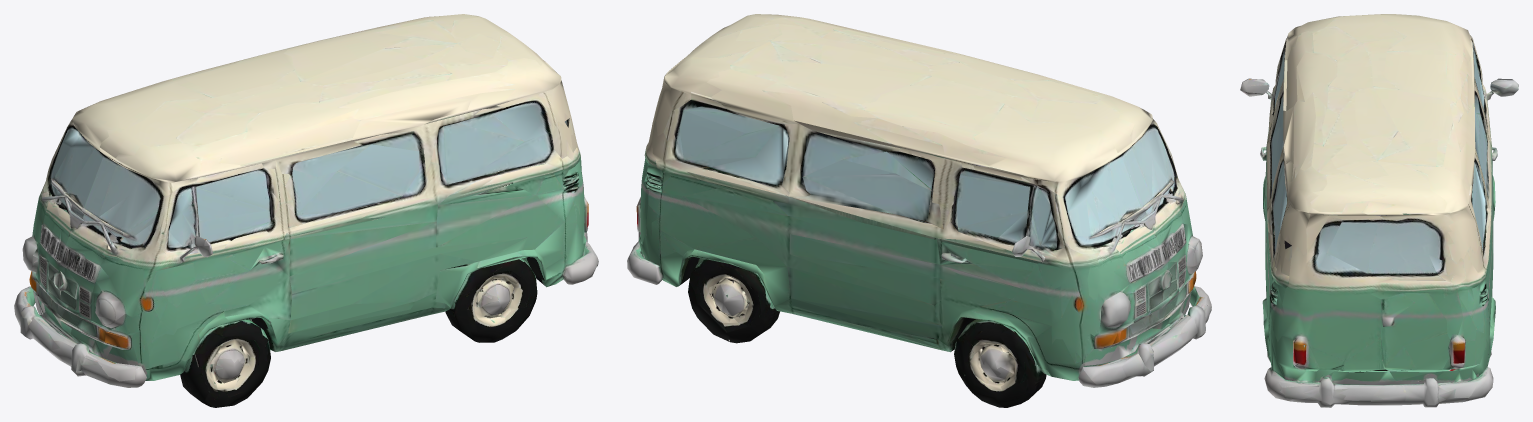
Rendered from getkong-mcar2-lo.glb.
3 views of the same model, side by side, from view 1: azimuth 30°, elevation 25°; view 2: azimuth 150°, elevation 25°; view 3: azimuth 270°, elevation 25° (orthographic). The views are drawn at different scales.
Visible parts, largest first — view 1: output_unwrapped; view 2: output_unwrapped; view 3: output_unwrapped.
Part boxes in pixels (x1,y1,x2,y2): output_unwrapped: (14, 14, 598, 407); output_unwrapped: (627, 14, 1211, 407); output_unwrapped: (1240, 14, 1518, 407).
Bounding box in the file's own units: 1.9 × 0.9185 × 0.956.
Materials: 1 (1 with a texture image).
